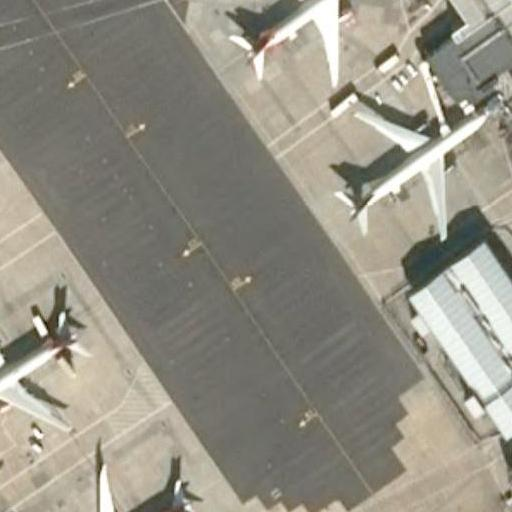Aircraft: (326, 91, 494, 239), (219, 0, 388, 84), (0, 287, 91, 440), (54, 449, 212, 512)
